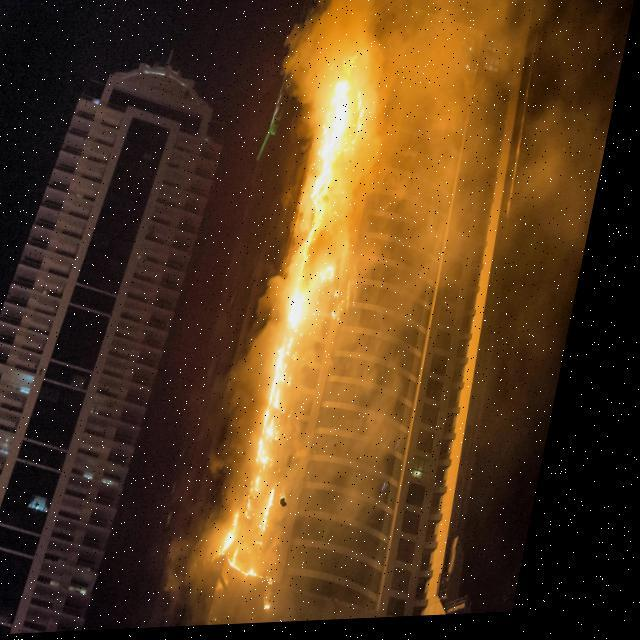Fire: (232, 30, 393, 608)
